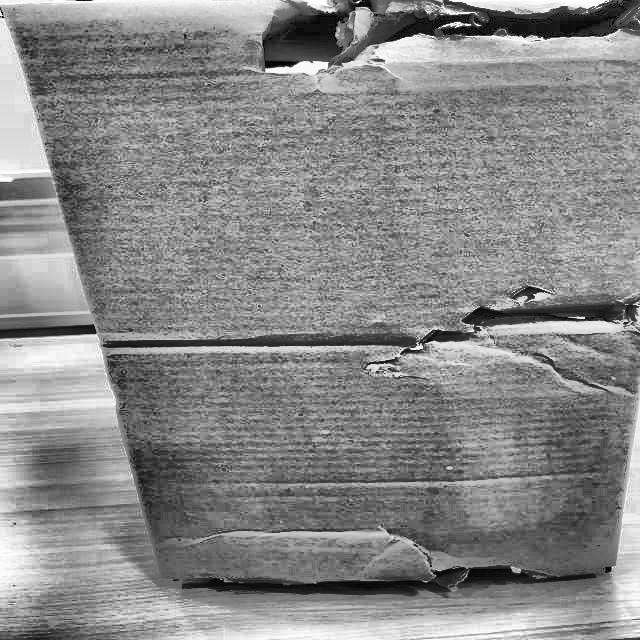box: (0, 0, 639, 595)
hole: (246, 0, 640, 65), (416, 284, 640, 342), (190, 559, 548, 595)
